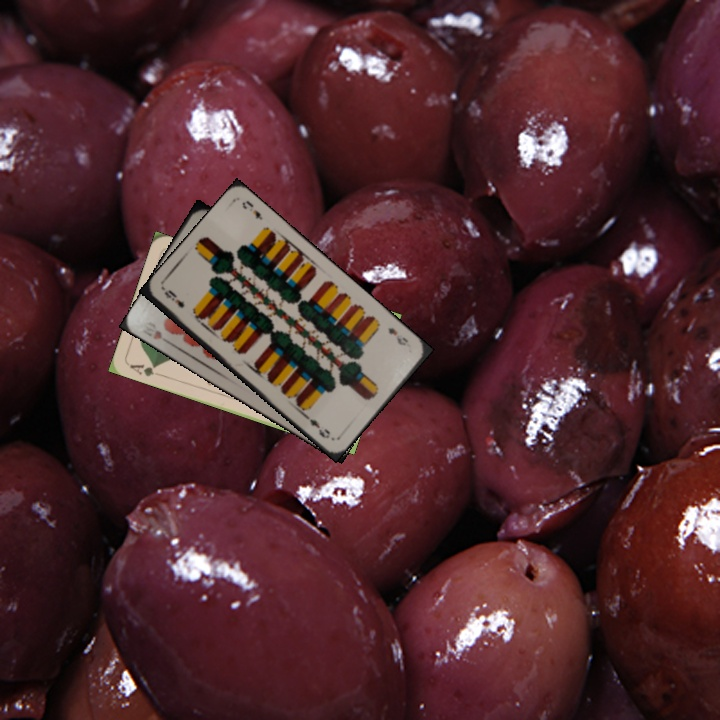E9: (160, 286, 187, 311), (384, 323, 411, 348)
GA: (125, 360, 165, 379)
H10: (149, 326, 174, 347)
